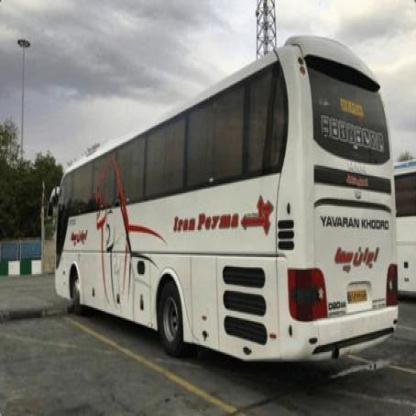Bus: (52, 30, 400, 375)
